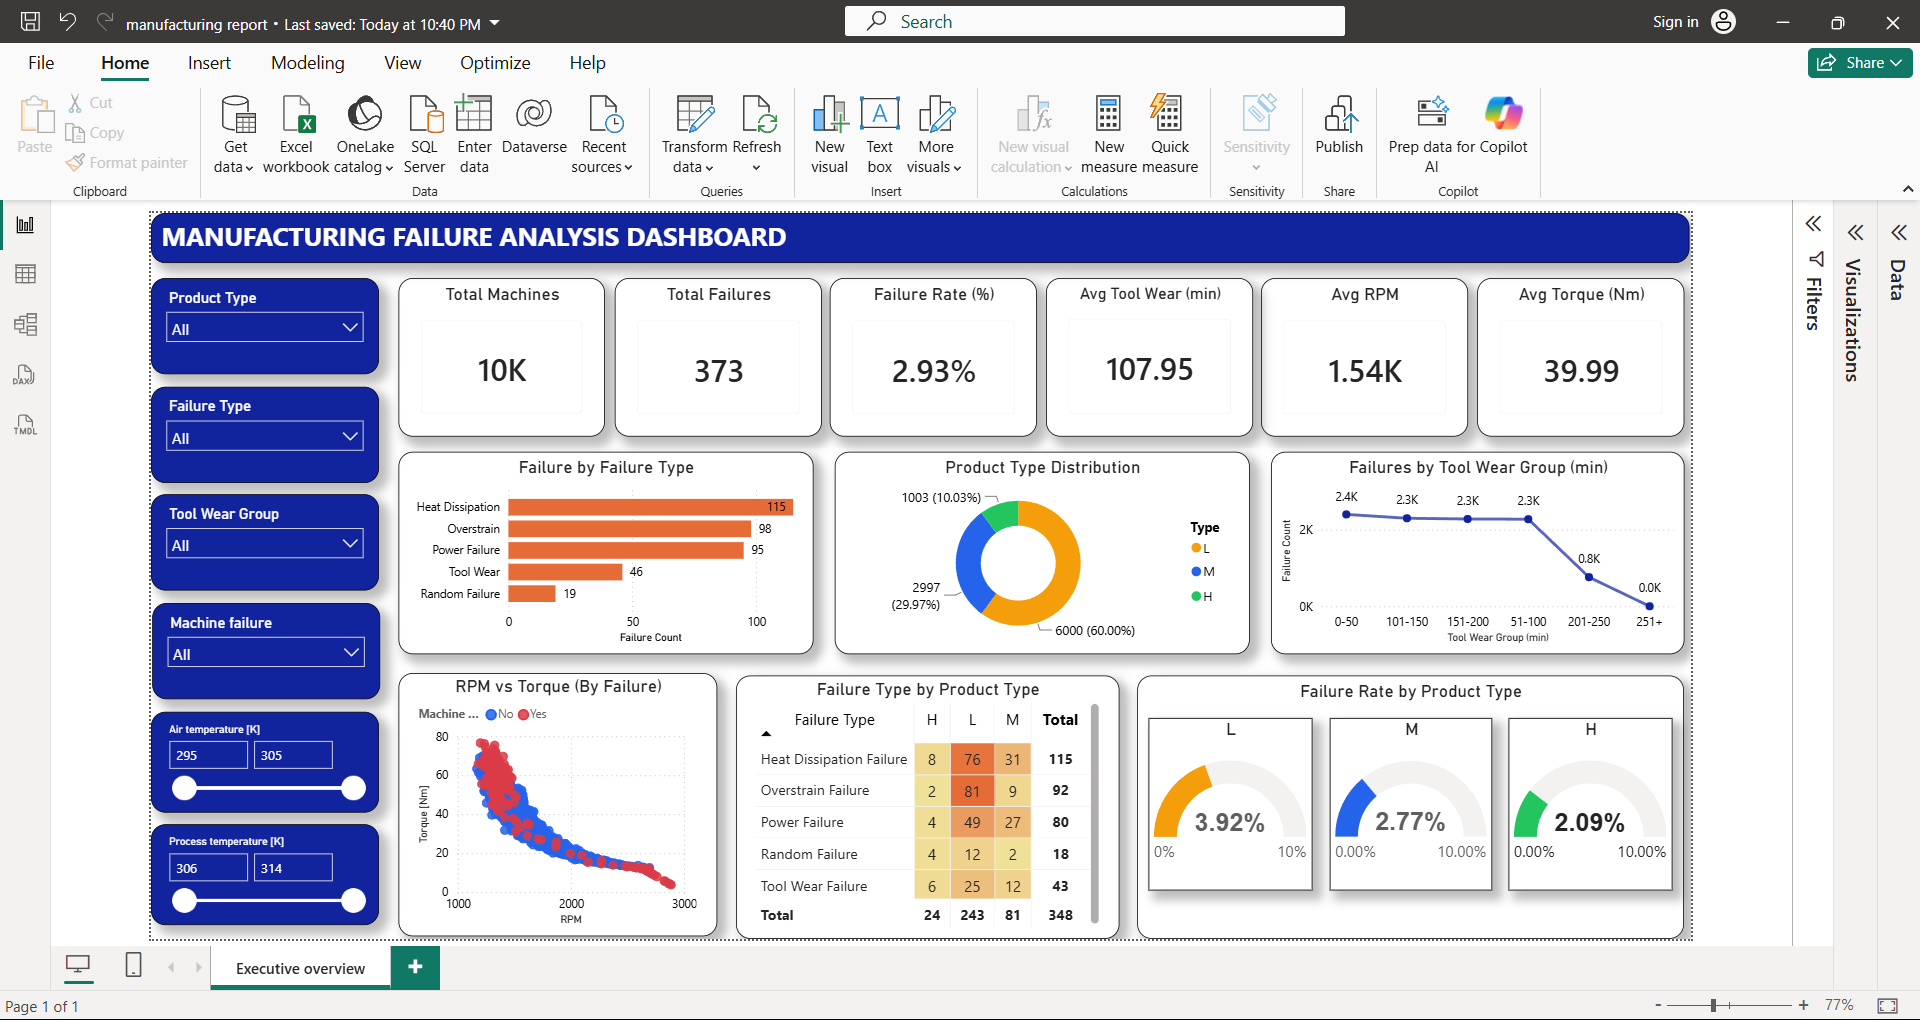

The page's visual inventory and layout, read from the dashboard file:
{"tool":"powerbi","page":{"name":"Executive Dashboard","canvas":[1600,755],"ordinal":0},"visuals":[{"type":"cardVisual","title":"Total Machines","fields":{"Data":["Sum(public manufacturing_summary.total_machines)"]},"box":[257.4,67.6,214.7,164.7],"z":0},{"type":"cardVisual","title":"Total Failures","fields":{"Data":["Sum(public failure_type_summary.Count)"]},"box":[481.2,67.6,215,165],"z":1000},{"type":"cardVisual","title":"Failure Rate (%)","fields":{"Data":["Avg(public product_type_summary.Failure Rate)"]},"box":[705.4,67.6,215,165],"z":2000},{"type":"cardVisual","title":"Avg RPM ","fields":{"Data":["Sum(public manufacturing_summary.avg_rpm)"]},"box":[1153.8,67.6,215,165],"z":3000},{"type":"cardVisual","title":"Avg Torque (Nm)","fields":{"Data":["Avg(public manufacturing_summary.avg_torque)"]},"box":[1377.9,67.6,215,165],"z":4000},{"type":"cardVisual","title":"Avg Tool Wear (min)","fields":{"Data":["Sum(public manufacturing_summary.avg_tool_wear)"]},"box":[929.6,67.6,215,165],"z":5000},{"type":"barChart","title":"Failure by Failure Type","fields":{"Category":["public failure_type_summary.Failure Type"],"Y":["Sum(public failure_type_summary.Count)"]},"box":[257.4,248.5,430.9,210.3],"z":6000},{"type":"textbox","box":[0,0,1598.5,52],"z":7000},{"type":"donutChart","title":"Product Type Distribution","fields":{"Category":["public product_type_summary.Type"],"Y":["CountNonNull(public machine_health.Product ID)"]},"box":[710.3,248.5,430.9,210.3],"z":8000},{"type":"lineChart","title":"Failures by Tool Wear Group (min)","fields":{"Category":["public machine_health.Tool Wear Group"],"Y":["CountNonNull(public machine_health.Machine failure)"]},"box":[1163.2,248.5,429.4,210.3],"z":9000},{"type":"scatterChart","title":"RPM vs Torque (By Failure)","fields":{"X":["public machine_health.Rotational speed [rpm]"],"Y":["public machine_health.Torque [Nm]"],"Series":["public machine_health.Machine failure"]},"box":[257.4,477.9,330.9,273.5],"z":10000},{"type":"pivotTable","title":"Failure Type by Product Type","fields":{"Columns":["public machine_health.Type"],"Values":["CountNonNull(public machine_health.UDI)"],"Rows":["public machine_health.Failure Type"]},"box":[607.4,480.9,398.5,273.5],"z":11000},{"type":"gauge","title":"L","fields":{"Y":["Avg(public product_type_summary.Failure Rate)"]},"box":[1036.8,525,170.6,179.4],"z":12000},{"type":"gauge","title":"M","fields":{"Y":["Avg(public product_type_summary.Failure Rate)"]},"box":[1224.3,525,169.1,179.4],"z":13000},{"type":"gauge","title":"H","fields":{"Y":["Avg(public product_type_summary.Failure Rate)"]},"box":[1410.3,525,170.6,179.4],"z":14000},{"type":"slicer","fields":{"Values":["public product_type_summary.Type"]},"box":[0,67.6,236.8,100],"z":15000},{"type":"slicer","fields":{"Values":["public failure_type_summary.Failure Type"]},"box":[0,180.2,236.8,100],"z":16000},{"type":"slicer","fields":{"Values":["public machine_health.Tool Wear Group"]},"box":[0,292.7,236.8,100],"z":17000},{"type":"slicer","fields":{"Values":["public machine_health.Machine failure"]},"box":[1.5,405.2,236.8,100],"z":18000},{"type":"slicer","title":"Air temperature [K]","fields":{"Values":["public machine_health.Air temperature [K]"]},"box":[0,517.8,236.8,105],"z":19000},{"type":"slicer","title":"Process temperature [K]","fields":{"Values":["public machine_health.Process temperature [K]"]},"box":[0,635.3,236.8,105],"z":20000},{"type":"actionButton","title":"Failure Rate by Product Type","box":[1025,480.9,567.6,273.5],"z":21000}]}

Visuals, with their boxes on the page's 1600x755 design canvas (x1, y1, x2, y2). These are canvas units, not pixel positions in the 1920x1020 screenshot, which may show the page scaled, cropped or inside an application window:
"Total Machines" cardVisual: Rect(257, 68, 472, 232)
"Total Failures" cardVisual: Rect(481, 68, 696, 233)
"Failure Rate (%)" cardVisual: Rect(705, 68, 920, 233)
"Avg RPM " cardVisual: Rect(1154, 68, 1369, 233)
"Avg Torque (Nm)" cardVisual: Rect(1378, 68, 1593, 233)
"Avg Tool Wear (min)" cardVisual: Rect(930, 68, 1145, 233)
"Failure by Failure Type" barChart: Rect(257, 248, 688, 459)
textbox: Rect(0, 0, 1598, 52)
"Product Type Distribution" donutChart: Rect(710, 248, 1141, 459)
"Failures by Tool Wear Group (min)" lineChart: Rect(1163, 248, 1593, 459)
"RPM vs Torque (By Failure)" scatterChart: Rect(257, 478, 588, 751)
"Failure Type by Product Type" pivotTable: Rect(607, 481, 1006, 754)
"L" gauge: Rect(1037, 525, 1207, 704)
"M" gauge: Rect(1224, 525, 1393, 704)
"H" gauge: Rect(1410, 525, 1581, 704)
slicer - public product_type_summary.Type: Rect(0, 68, 237, 168)
slicer - public failure_type_summary.Failure Type: Rect(0, 180, 237, 280)
slicer - public machine_health.Tool Wear Group: Rect(0, 293, 237, 393)
slicer - public machine_health.Machine failure: Rect(2, 405, 238, 505)
"Air temperature [K]" slicer: Rect(0, 518, 237, 623)
"Process temperature [K]" slicer: Rect(0, 635, 237, 740)
"Failure Rate by Product Type" actionButton: Rect(1025, 481, 1593, 754)
